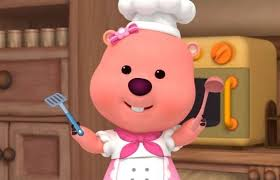Loopy: (69, 17, 207, 180)
